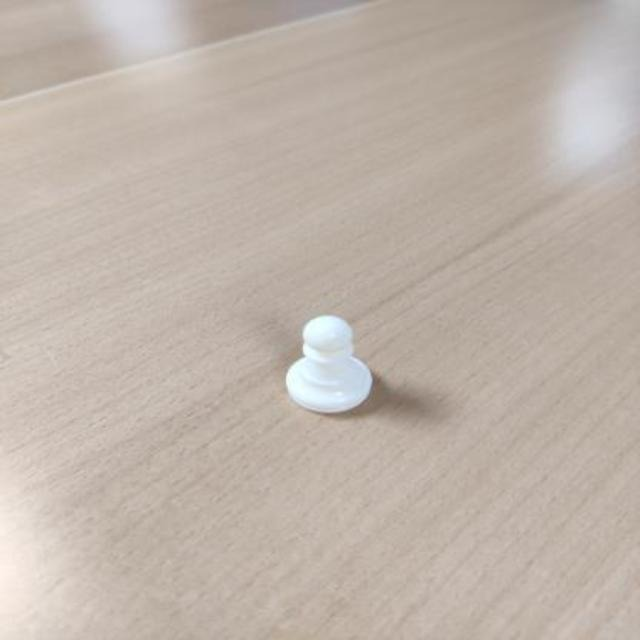white-pawn: (283, 317, 375, 413)
